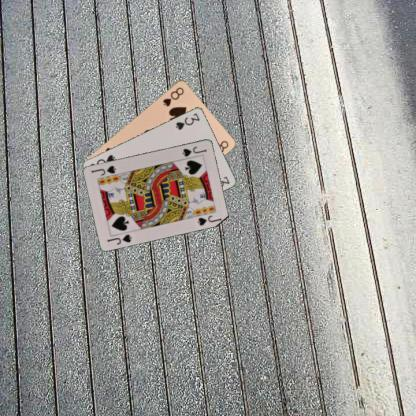3s: (173, 110, 201, 132)
8s: (160, 84, 185, 108)
Js: (104, 231, 133, 246), (180, 144, 209, 158)
